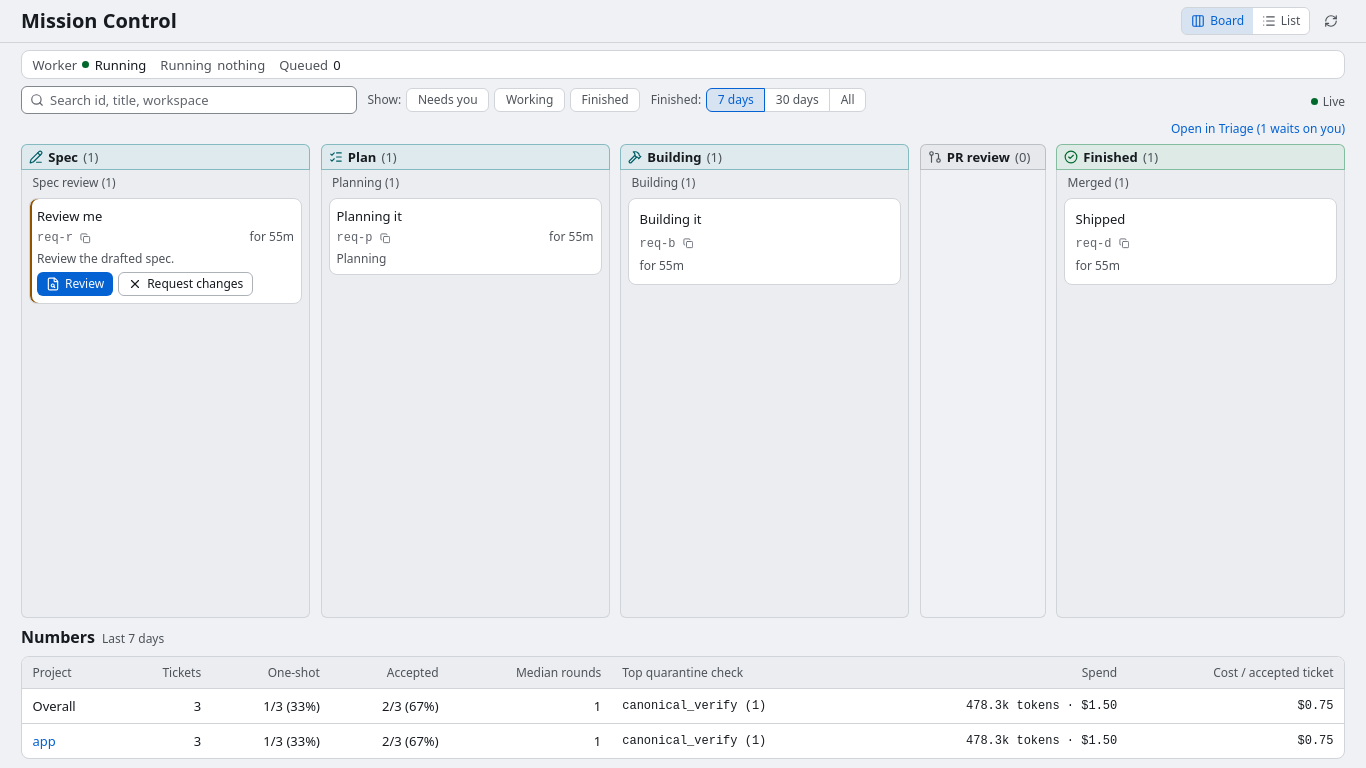
Test: URL filters on the board › the section chips and the needs-you strip drive the board's columns
Check: the list item with test id "card-req-b" is shown, box [628, 198, 901, 285]
Click the button "Finished".
click(605, 100)  # box [570, 88, 640, 112]
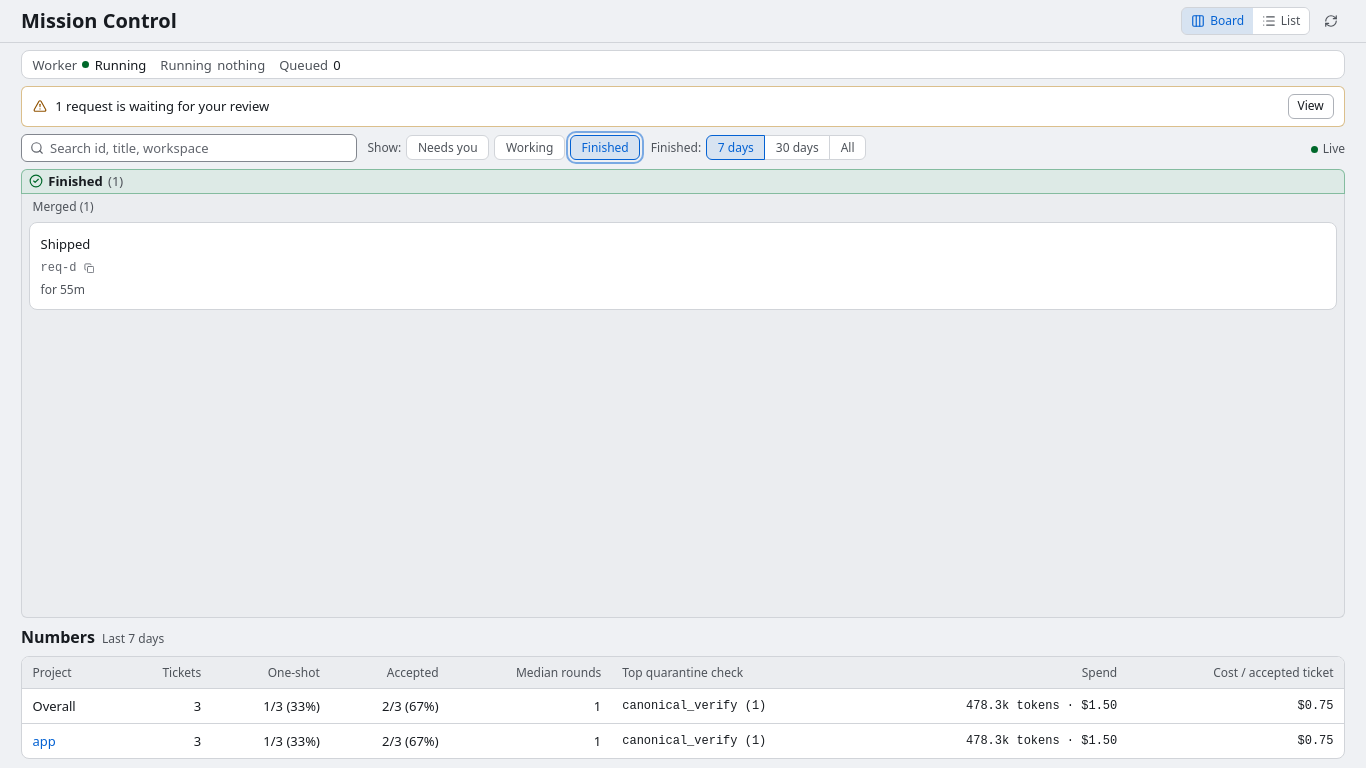
Click the button "View".
click(1311, 106)  # box [1288, 94, 1334, 118]
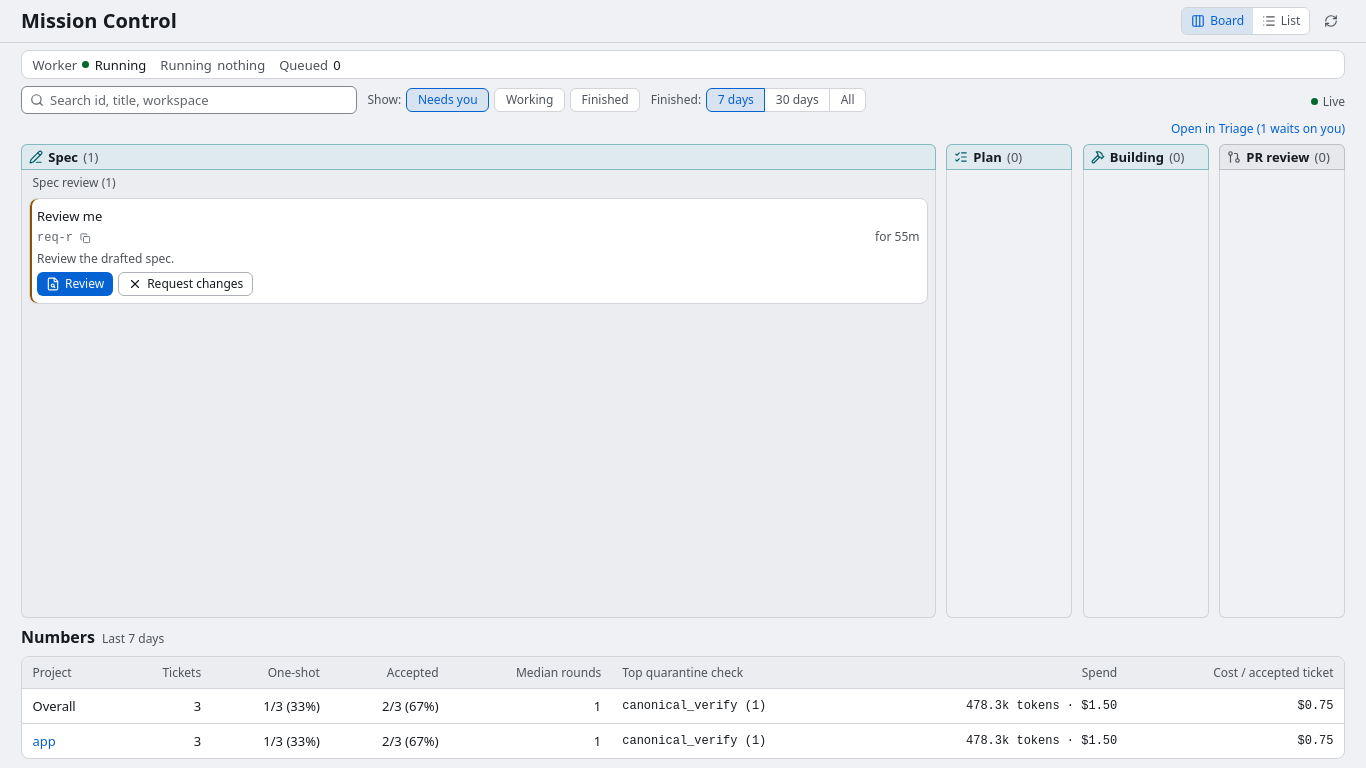
Check: the list item with test id "card-req-r" is shown, box [29, 198, 928, 304]
